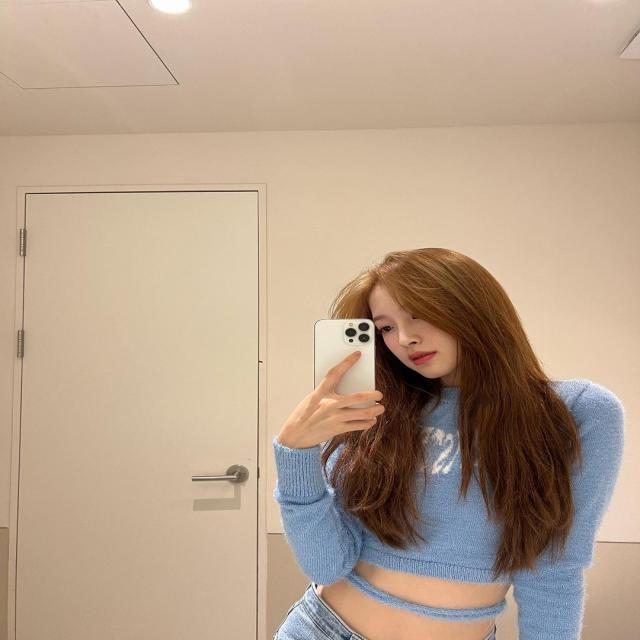phone: (314, 318, 376, 421)
